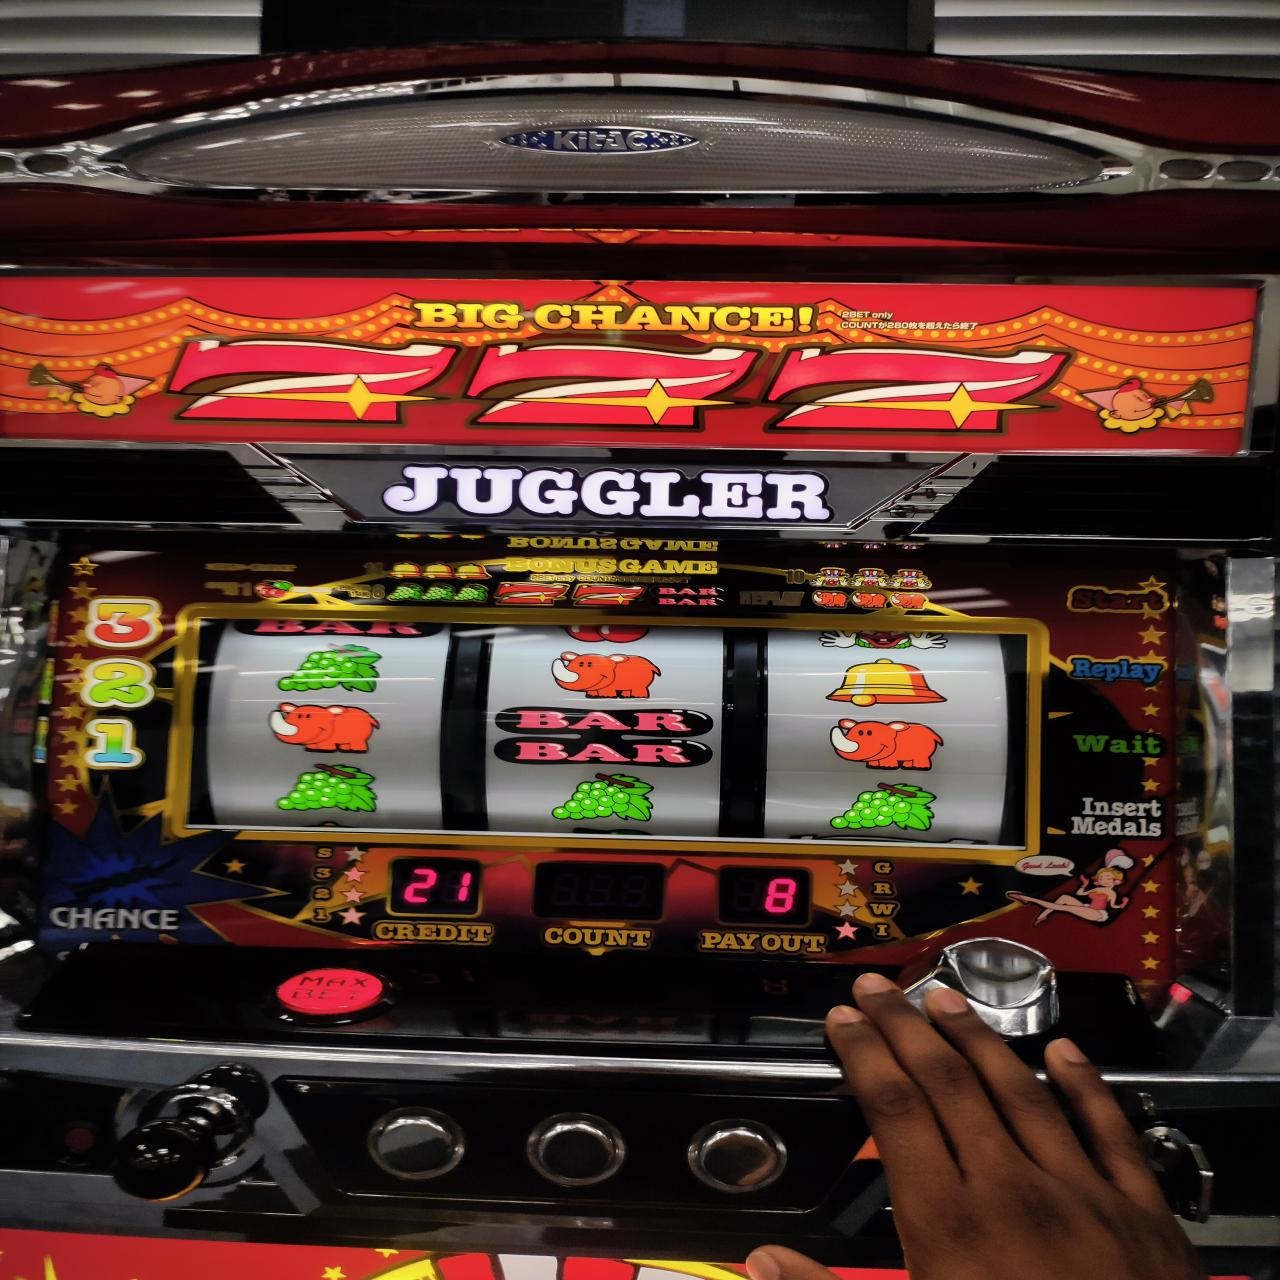8: (266, 701, 380, 756), (829, 719, 948, 770), (552, 649, 663, 697)
Display: (192, 613, 1034, 853)
bar: (496, 704, 713, 767)
bell: (821, 658, 953, 709)
grape: (830, 779, 942, 835), (266, 763, 382, 815), (552, 770, 659, 825), (273, 641, 383, 694)
